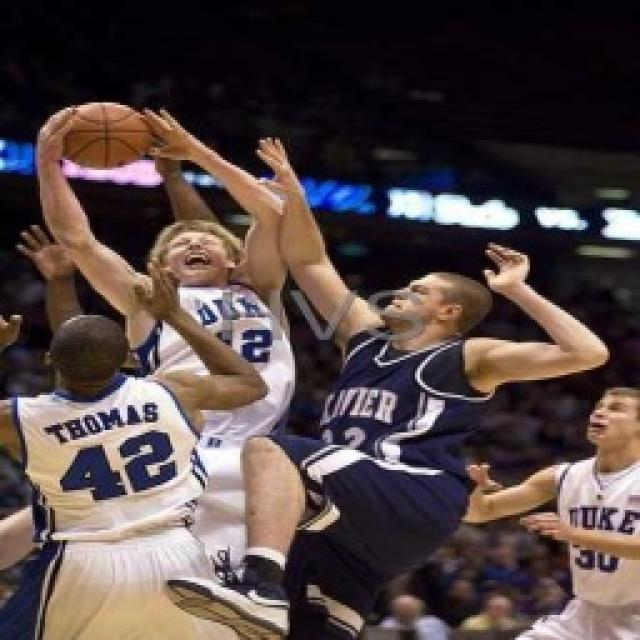rim: (54, 96, 160, 174)
